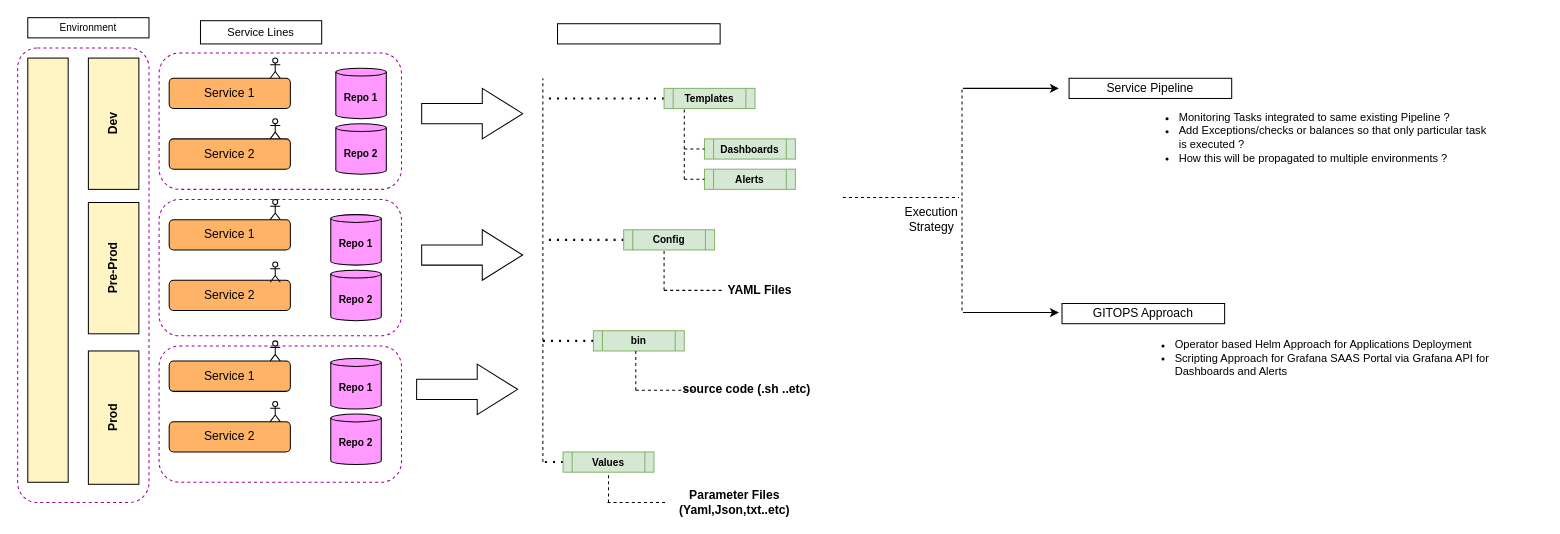
This 1560x534 diagram has some shape labels left out. Each missing label, with the centre of its shape:
"Project" belongs at pixel 47 269.
"Repo Folder Structure" belongs at pixel 638 33.
